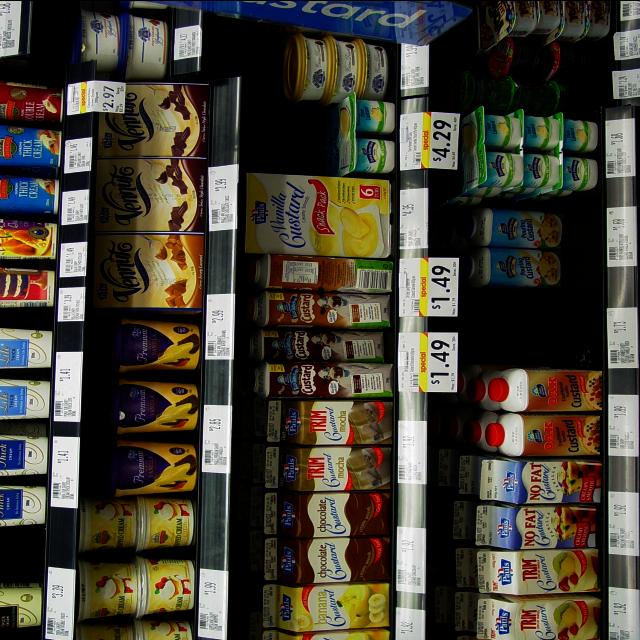empty_space: (461, 292, 592, 342), (254, 113, 315, 163)
